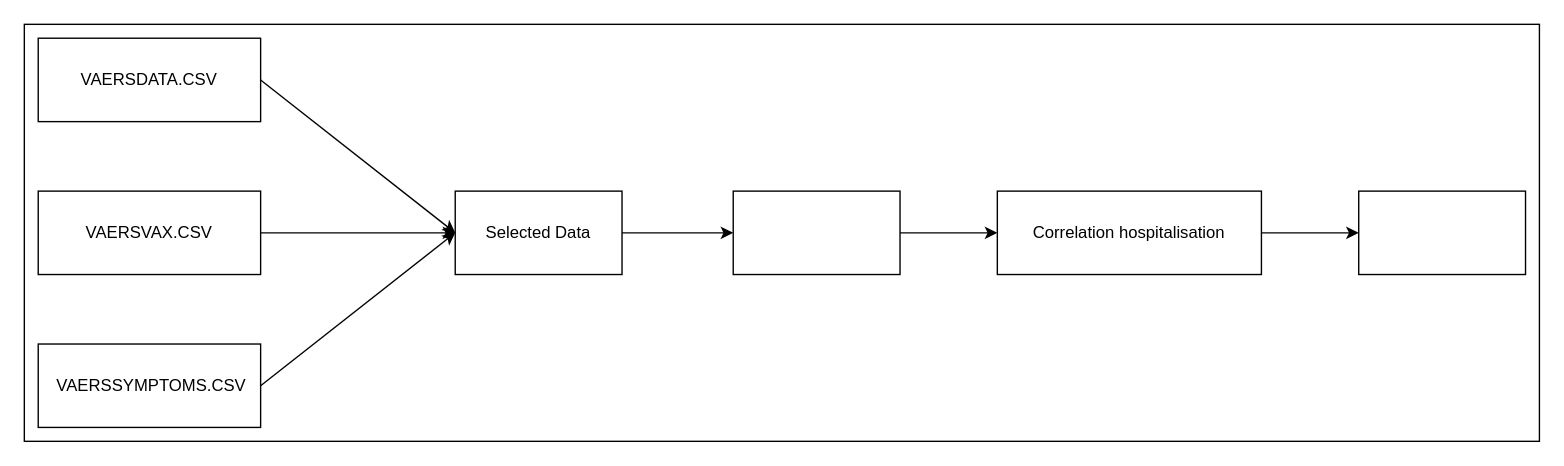
Some shapes in this 1564 by 466 pixel diagram are drawn without their labels. Each missing label, with the centre of its shape:
data preprocessing: (816,232)
model training: (1441,232)
